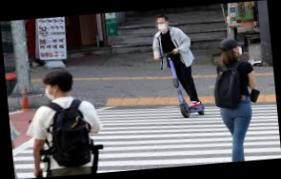nonhelmet: (147, 11, 210, 121)
